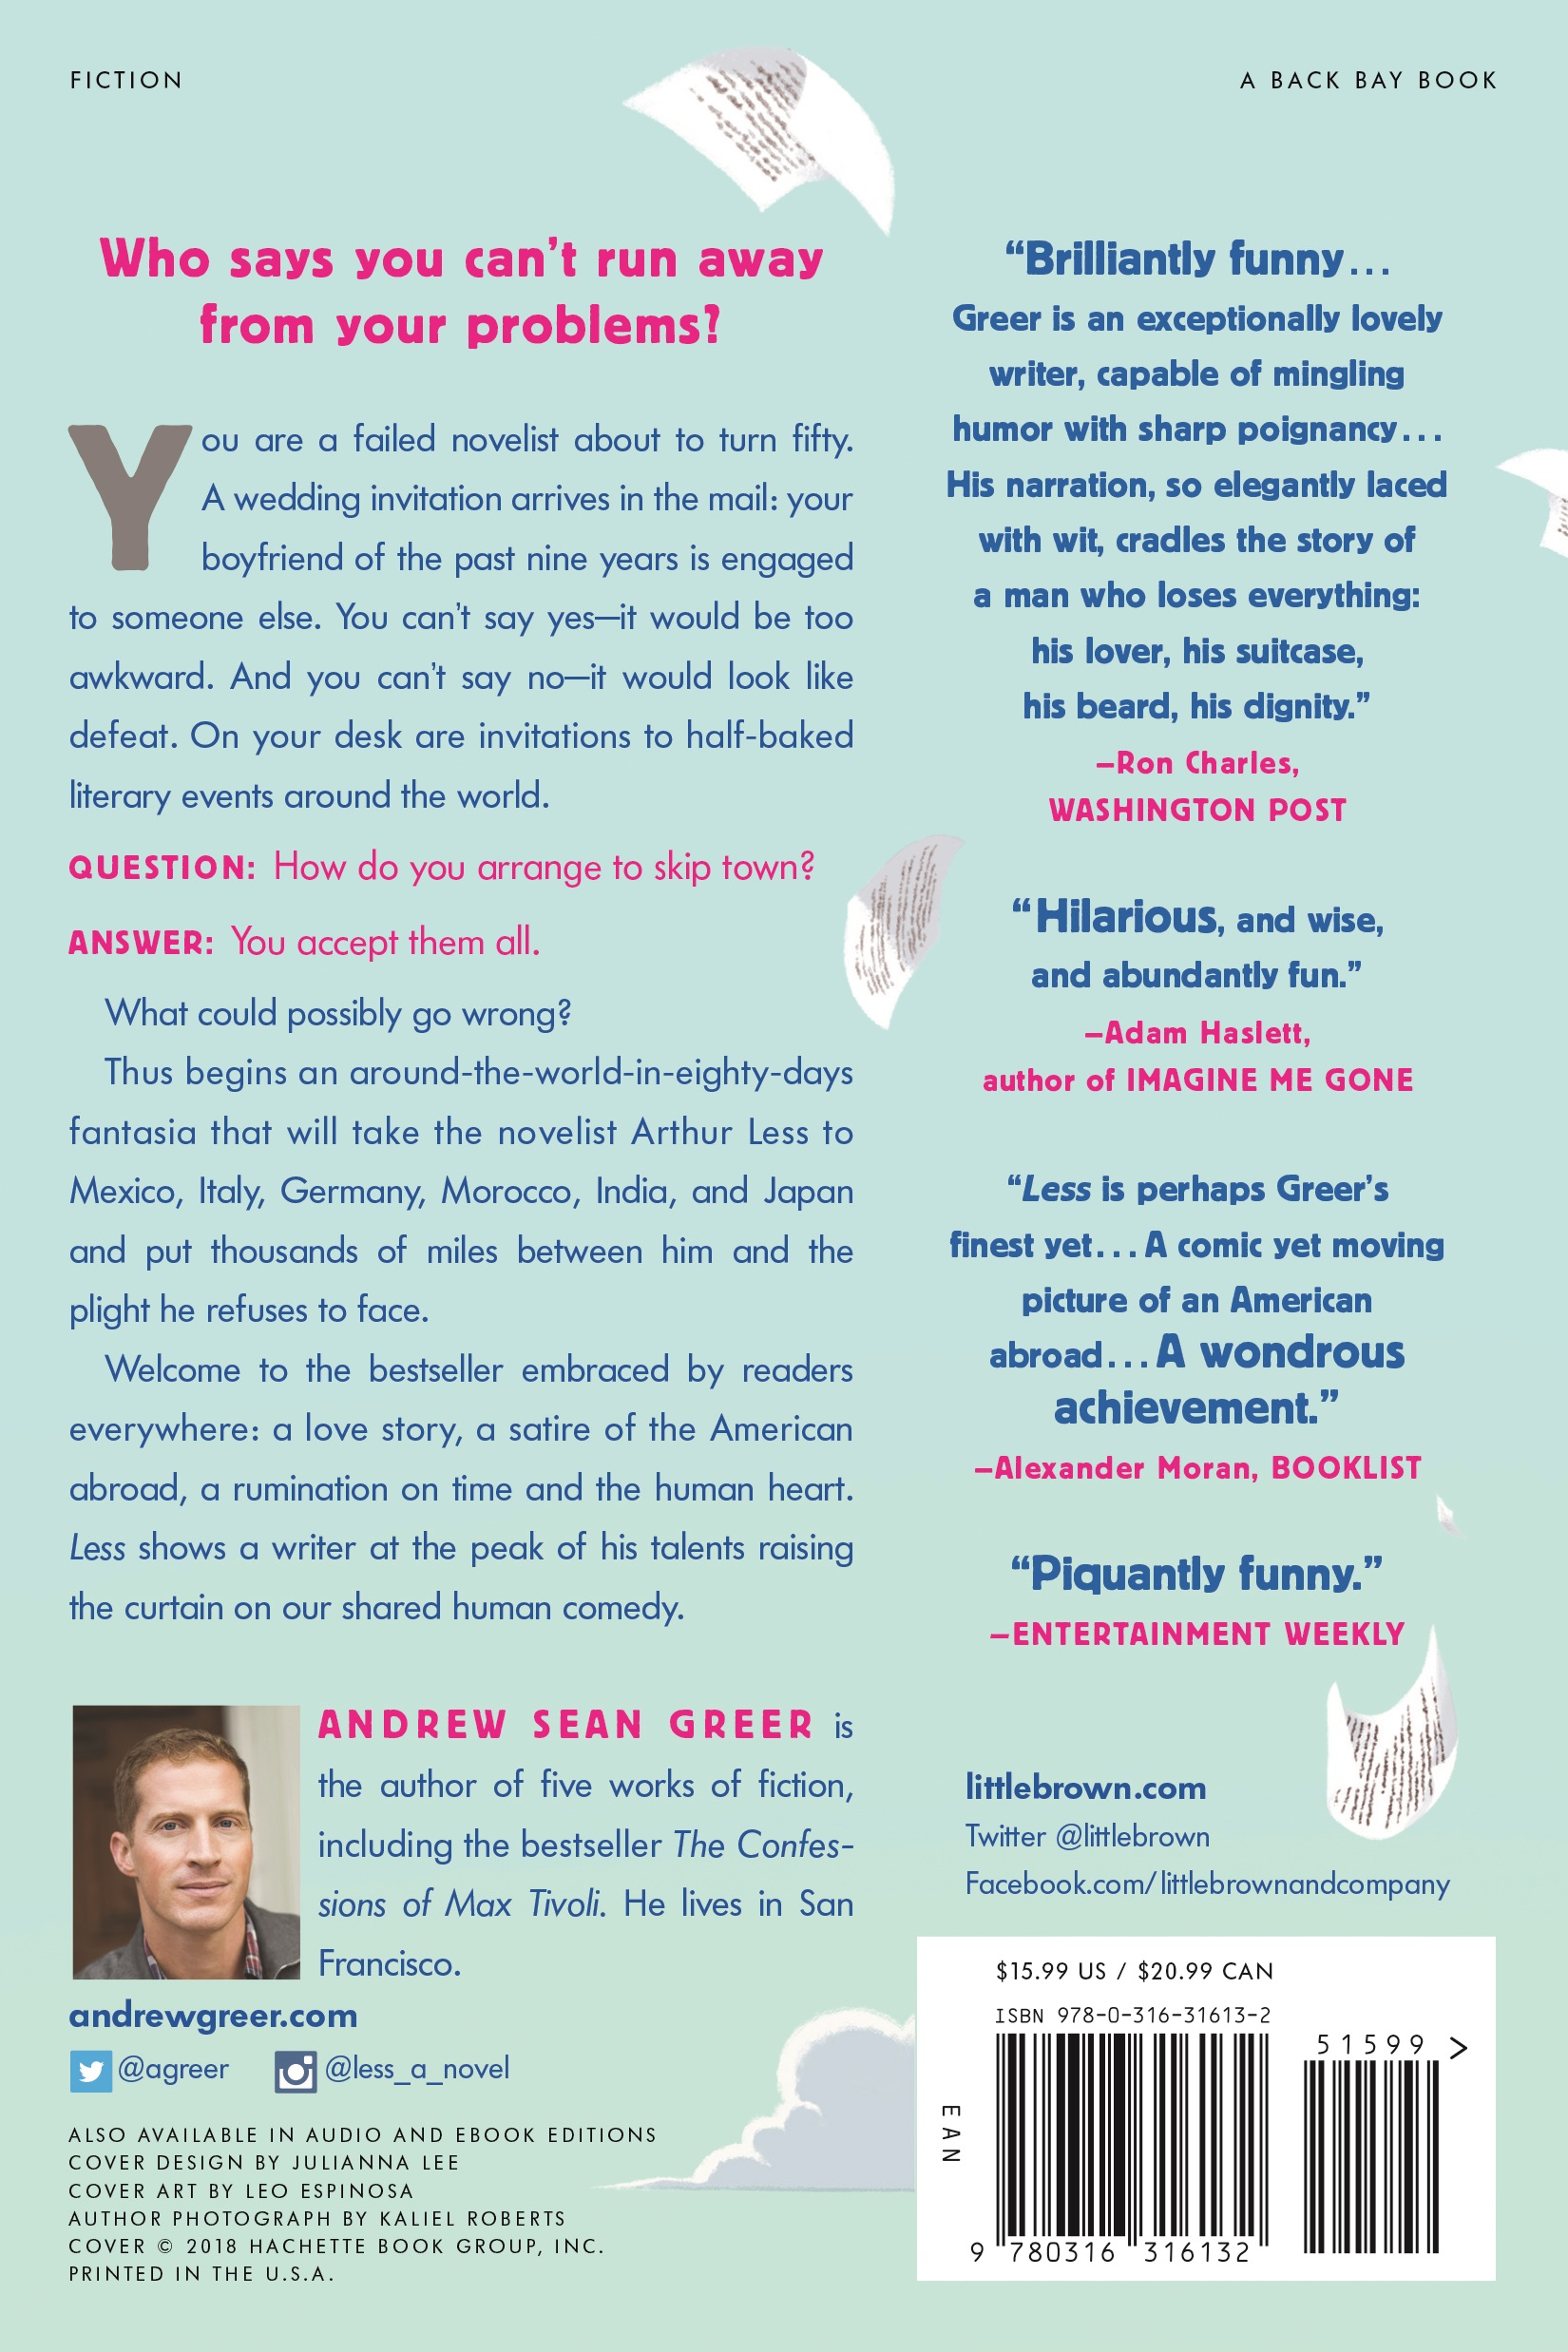barcode: (969, 1997, 1475, 2278)
